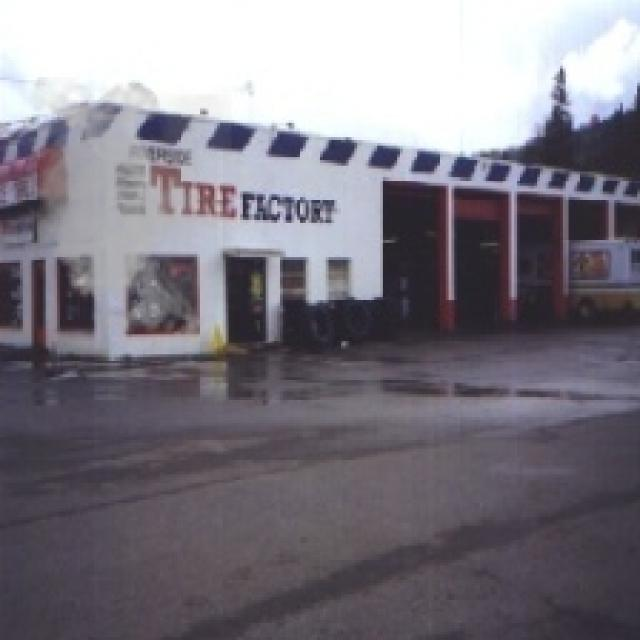smoke: (23, 77, 231, 349)
